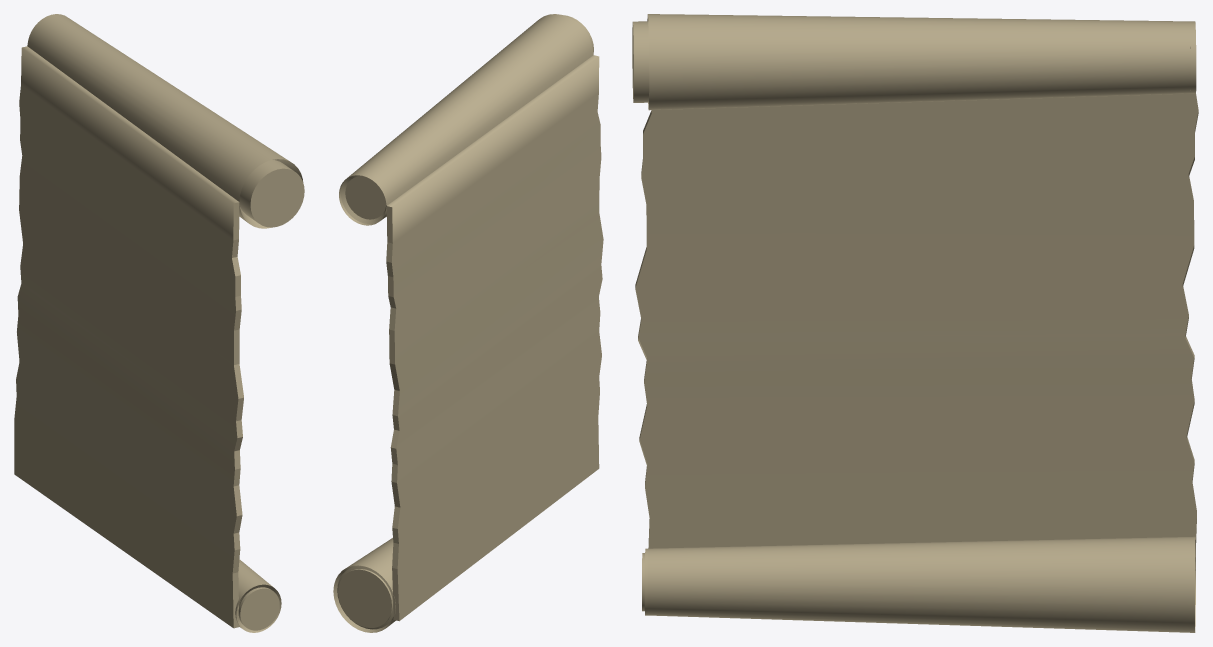
The model's file is pergamino.fbx.
3 renders of one model, left to right at view 1: azimuth 30°, elevation 25°; view 2: azimuth 150°, elevation 25°; view 3: azimuth 270°, elevation 25°, orthographic. The views are drawn at different scales.
Parts seen in each view (by area): view 1: Cilindro.001; view 2: Cilindro.001; view 3: Cilindro.001.
Part boxes in pixels (left/top/right/bottom): Cilindro.001: left=14, top=14, right=304, bottom=632; Cilindro.001: left=333, top=14, right=603, bottom=632; Cilindro.001: left=632, top=14, right=1198, bottom=632.
Size of the model in its own units: 88.57 by 524 by 436.
